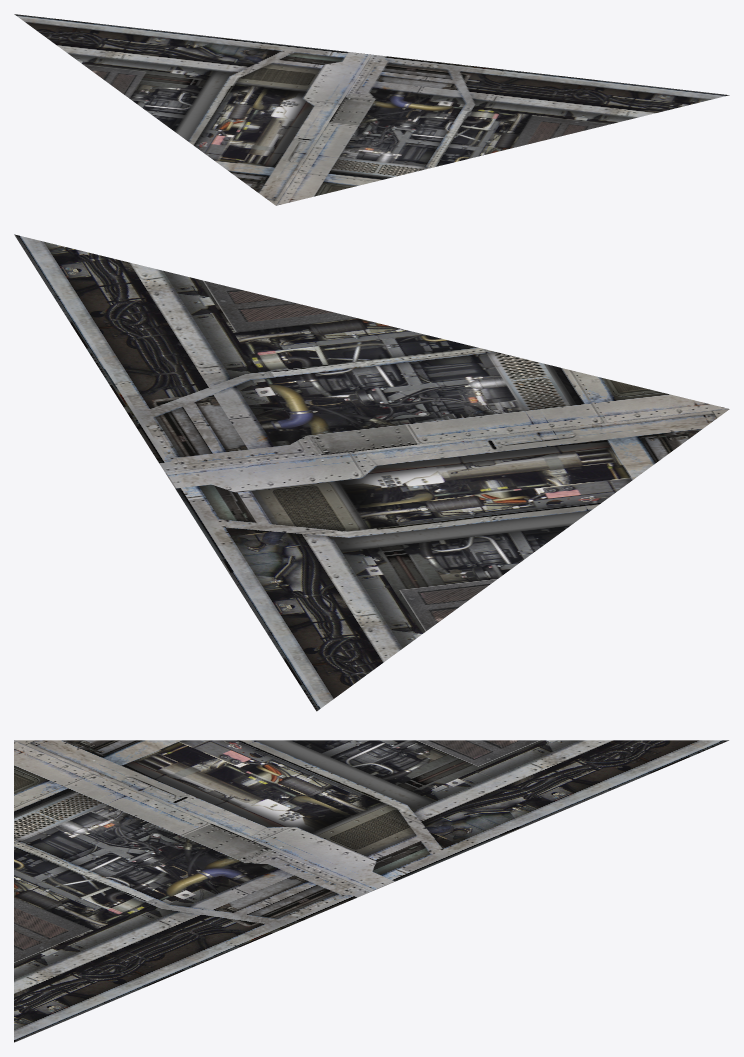
File: Ceiling_B_15.fbx
3 views of the same model, one above another, from view 1: azimuth 30°, elevation 25°; view 2: azimuth 150°, elevation 25°; view 3: azimuth 270°, elevation 25° (orthographic). The views are drawn at different scales.
Parts seen in each view (by area): view 1: Ceiling_B_15; view 2: Ceiling_B_15; view 3: Ceiling_B_15.
Boxes of the visible parts, x1,y1,x2,y2 form: Ceiling_B_15: (14, 14, 729, 205); Ceiling_B_15: (14, 234, 729, 711); Ceiling_B_15: (14, 740, 728, 1042).
Size of the model in its own units: 354 by 0.0016 by 354.
